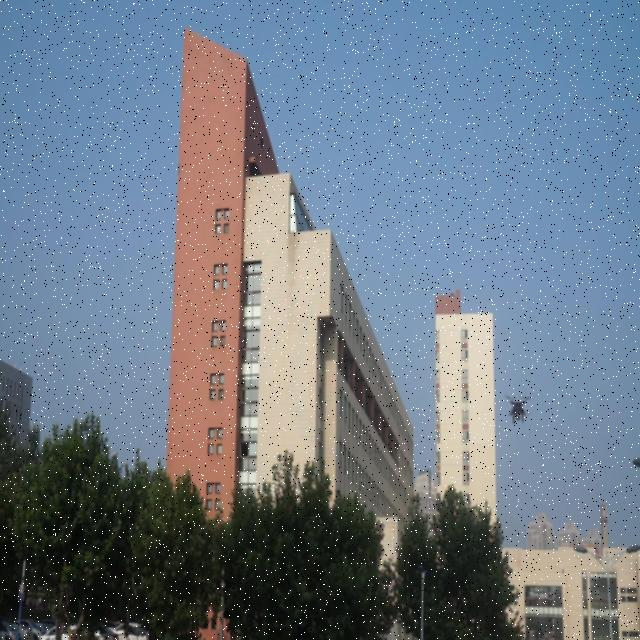UAV: (504, 393, 532, 424)
